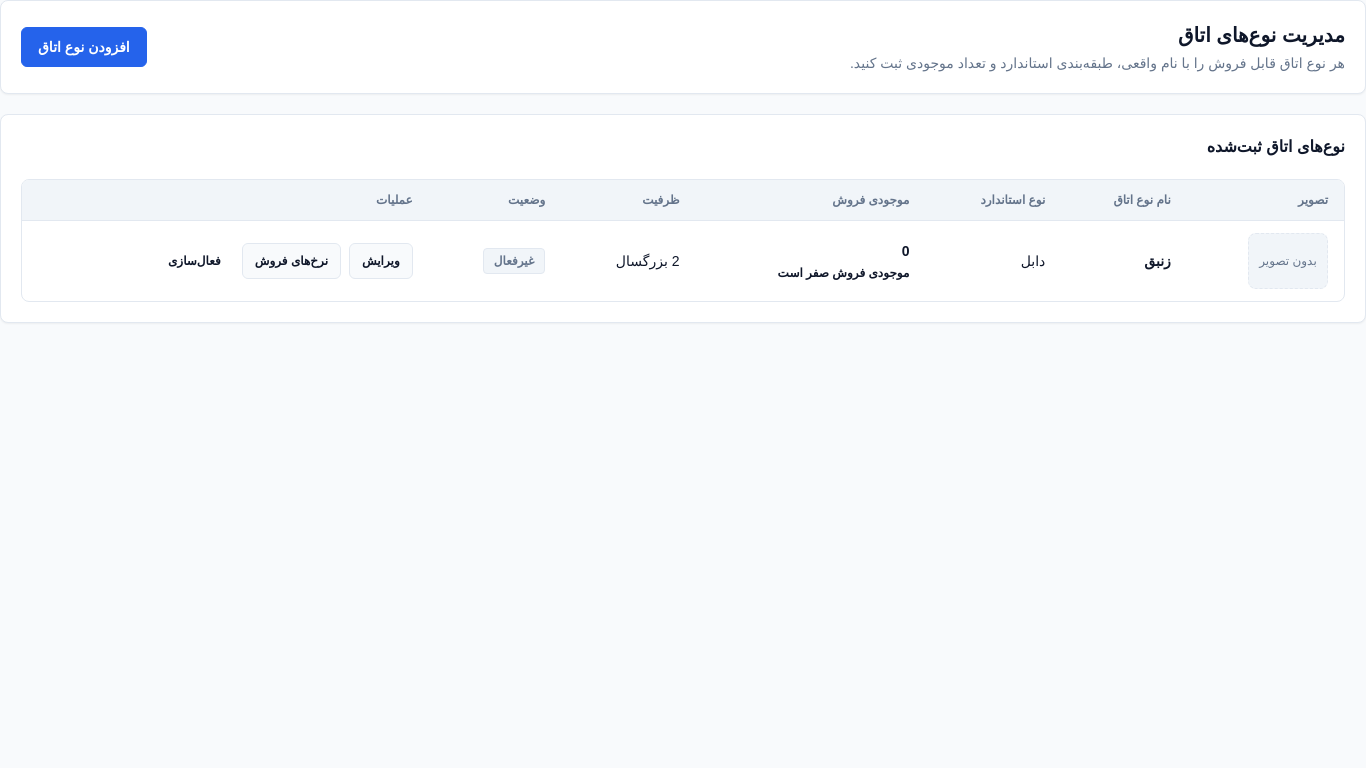
unified owner sellable room type management › shows the loaded Property meal as the inherit option without storing its ID
Click the button "ویرایش": (381, 261) left=349, top=243, right=413, bottom=279
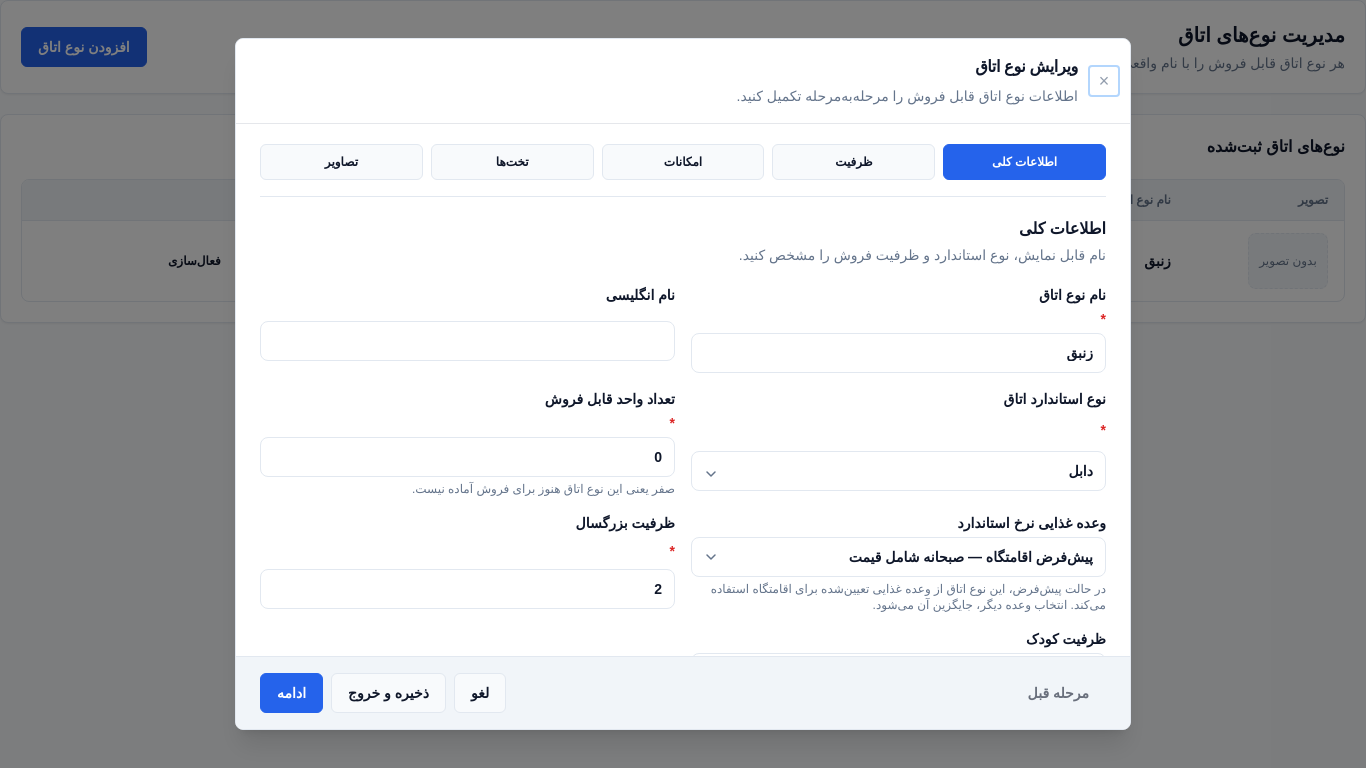
Expected: the dropdown labelled "وعده غذایی نرخ استاندارد" shows "پیش‌فرض اقامتگاه — صبحانه شامل قیمت", left=691, top=537, right=1106, bottom=577
Click the button "ادامه": (292, 693) left=260, top=673, right=323, bottom=713
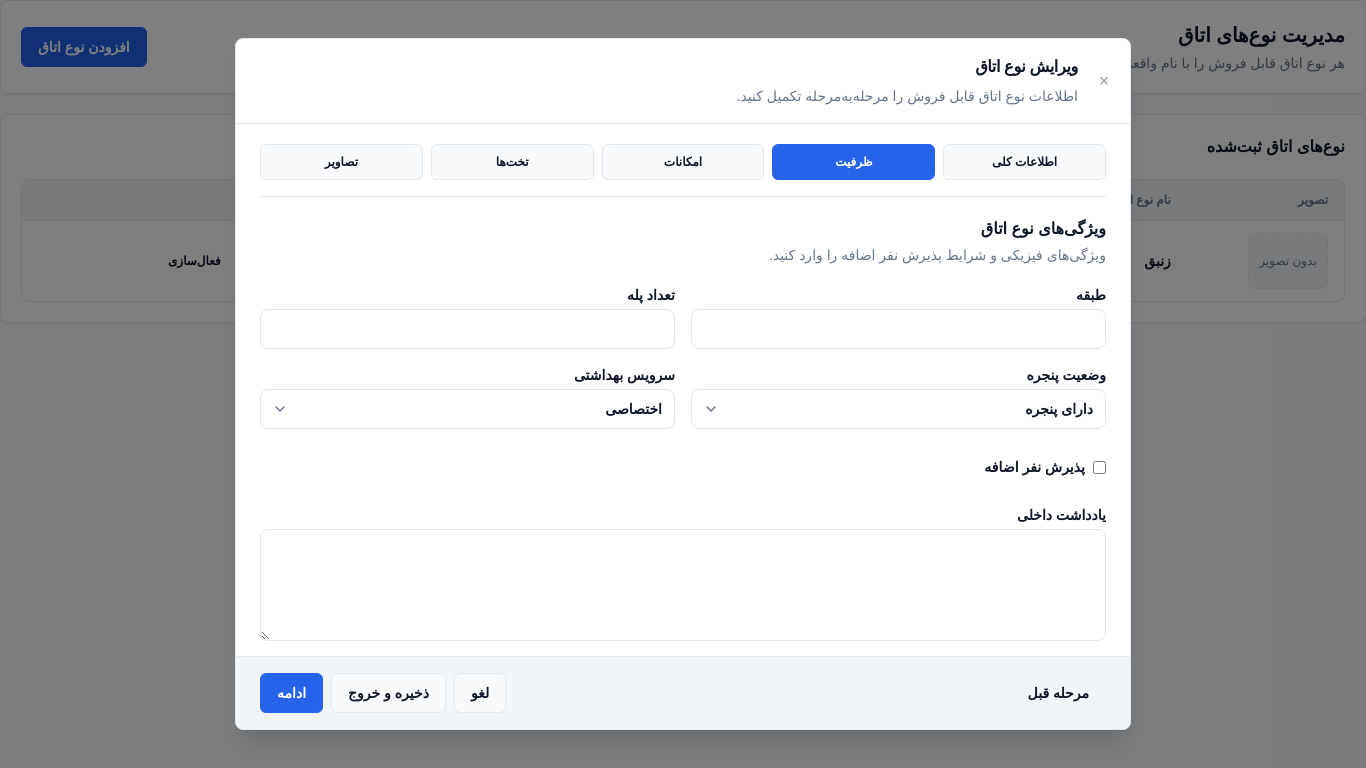
Expected: the heading "ویژگی‌های نوع اتاق" is shown, left=981, top=220, right=1106, bottom=237
